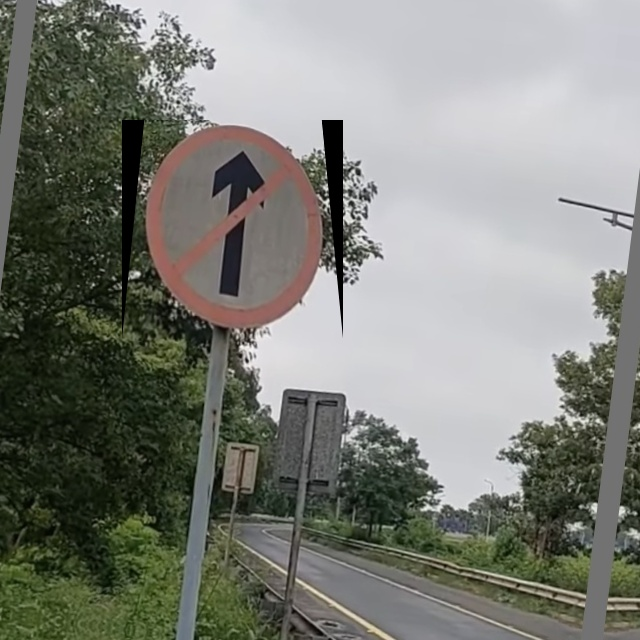No_Entry: (122, 120, 343, 339)
